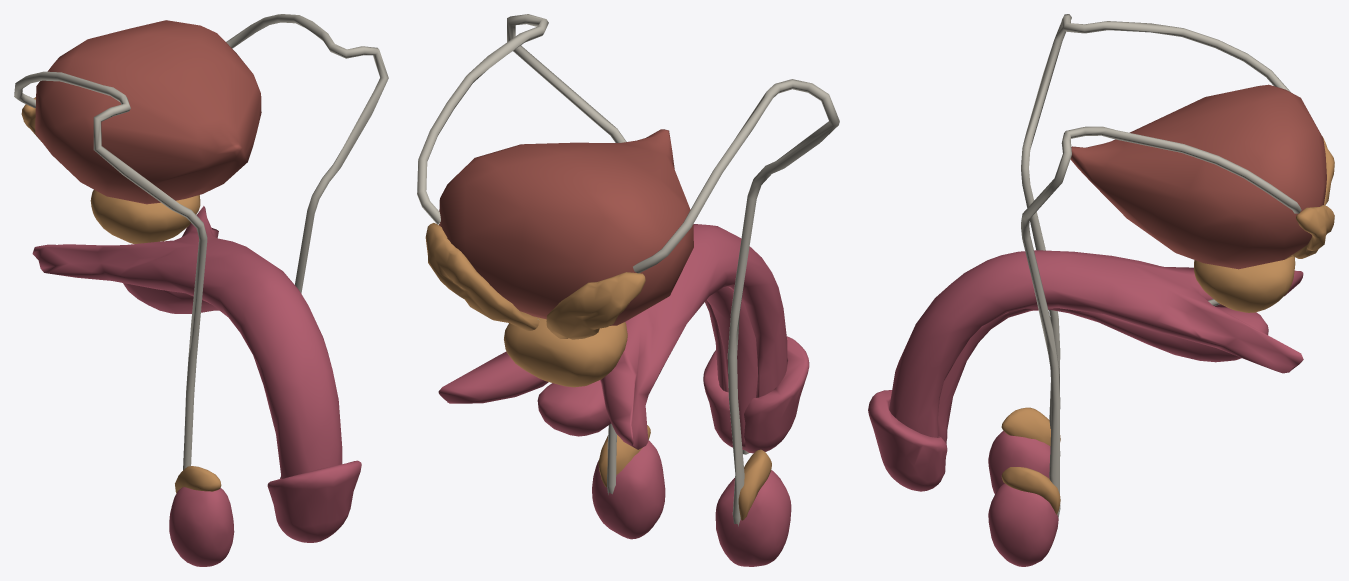
Rendered from organs-pelvis.glb.
3 views of the same model, side by side, from view 1: azimuth 30°, elevation 25°; view 2: azimuth 150°, elevation 25°; view 3: azimuth 270°, elevation 25° (orthographic). The views are drawn at different scales.
Parts seen in each view (by area): view 1: organ-urinary-bladder, organ-corpus-cavernosum-of-penis, organ-ductus-deferens-r, organ-glans-penis, organ-testis-r, organ-ductus-deferens-l, organ-prostate, organ-corpus-spongiosum-of-penis, organ-epididymis-r; view 2: organ-urinary-bladder, organ-corpus-cavernosum-of-penis, organ-ductus-deferens-r, organ-corpus-spongiosum-of-penis, organ-prostate, organ-ductus-deferens-l, organ-glans-penis, organ-testis-r, organ-testis-l, organ-seminal-gland-r, organ-seminal-gland-l, organ-epididymis-r (+1 smaller); view 3: organ-urinary-bladder, organ-corpus-cavernosum-of-penis, organ-ductus-deferens-l, organ-ductus-deferens-r, organ-corpus-spongiosum-of-penis, organ-glans-penis, organ-testis-l, organ-prostate, organ-testis-r, organ-seminal-gland-l, organ-epididymis-l, organ-epididymis-r.
Boxes of the visible parts, x1,y1,x2,y2 form: organ-urinary-bladder: [35, 20, 261, 204]; organ-corpus-cavernosum-of-penis: [32, 206, 342, 479]; organ-ductus-deferens-r: [14, 71, 207, 470]; organ-glans-penis: [267, 460, 361, 542]; organ-testis-r: [169, 487, 234, 566]; organ-ductus-deferens-l: [226, 14, 388, 293]; organ-prostate: [90, 190, 200, 243]; organ-corpus-spongiosum-of-penis: [123, 283, 218, 313]; organ-epididymis-r: [175, 466, 221, 493]; organ-urinary-bladder: [439, 129, 693, 325]; organ-corpus-cavernosum-of-penis: [438, 224, 787, 449]; organ-ductus-deferens-r: [633, 79, 839, 526]; organ-corpus-spongiosum-of-penis: [537, 287, 757, 447]; organ-prostate: [504, 316, 627, 387]; organ-ductus-deferens-l: [417, 14, 626, 494]; organ-glans-penis: [703, 336, 809, 453]; organ-testis-r: [715, 470, 791, 566]; organ-testis-l: [592, 440, 665, 539]; organ-seminal-gland-r: [546, 272, 645, 339]; organ-seminal-gland-l: [425, 223, 539, 330]; organ-epididymis-r: [738, 449, 771, 520]; organ-urinary-bladder: [1070, 84, 1326, 269]; organ-corpus-cavernosum-of-penis: [889, 250, 1303, 437]; organ-ductus-deferens-l: [1021, 126, 1301, 518]; organ-ductus-deferens-r: [1021, 14, 1290, 456]; organ-corpus-spongiosum-of-penis: [938, 307, 1268, 474]; organ-glans-penis: [868, 390, 947, 491]; organ-testis-l: [988, 483, 1058, 566]; organ-prostate: [1194, 256, 1295, 312]; organ-testis-r: [988, 431, 1050, 493]; organ-seminal-gland-l: [1284, 205, 1334, 259]; organ-epididymis-l: [1001, 467, 1060, 514]; organ-epididymis-r: [1001, 407, 1060, 445].
Size of the model in its own units: 0.1103 by 0.1653 by 0.151.
